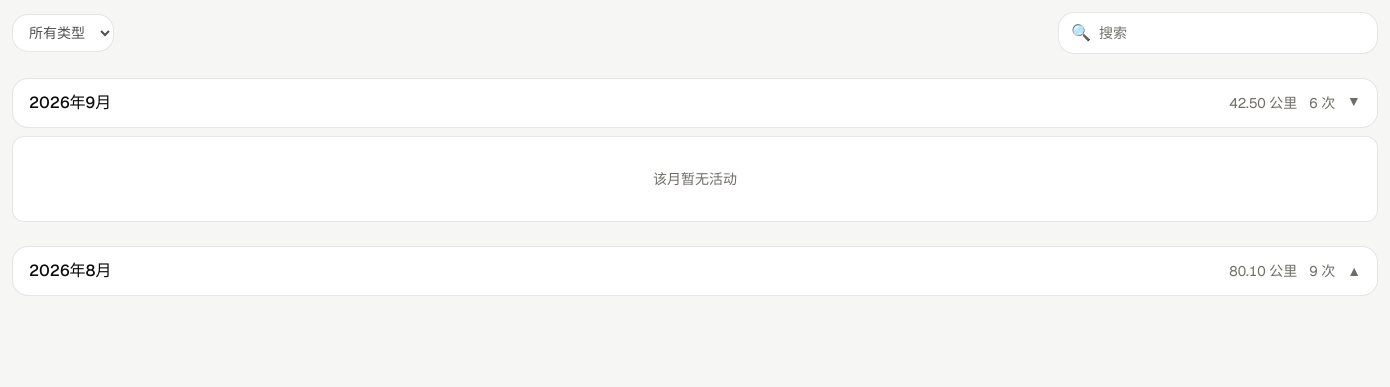
Test: ListClient 活动列表 (交互/筛选/无限滚动) › 加载失败抛出非 Error → 走「加载失败」兜底文案
What coordinates should you click on to do the following:
click the button "2026年8月 80.10 公里 9 次 ▲"
I would click on:
 (70, 270)
Its box is [12,246,1378,296].
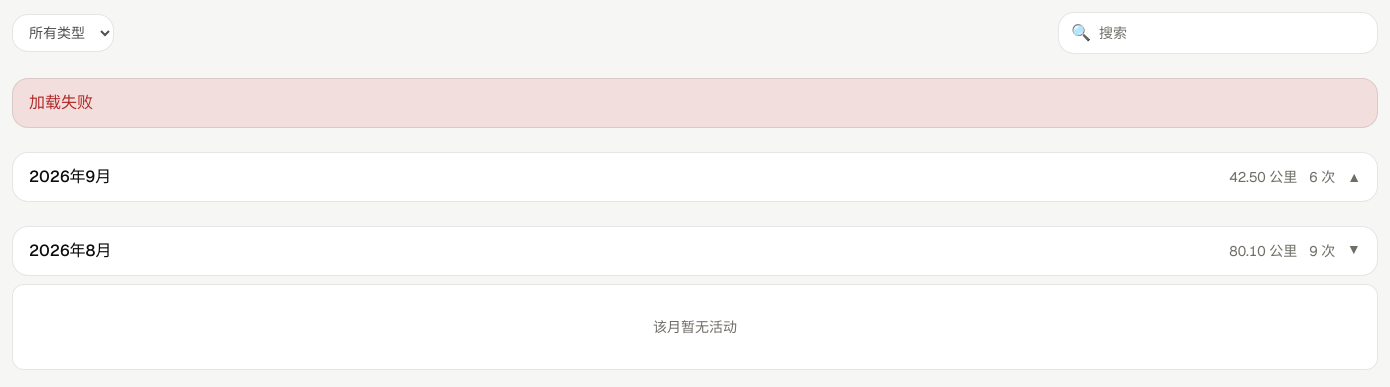
Result: the text "加载失败" is shown at [12,78,1378,128]
